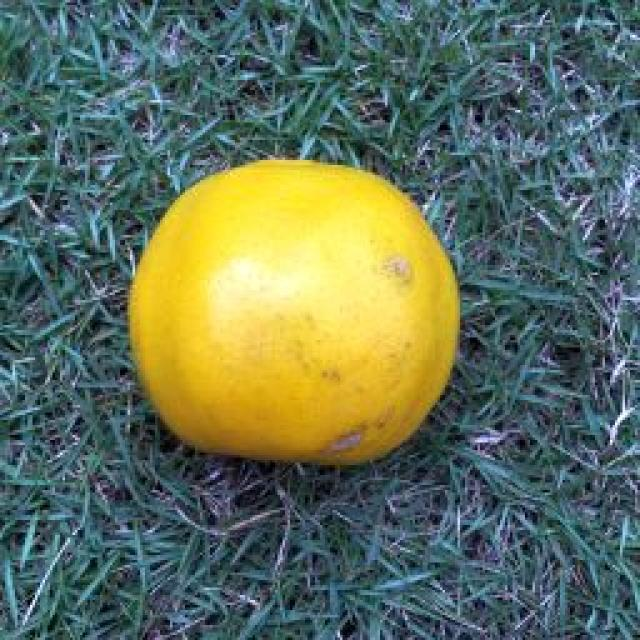Good_Orange: (128, 160, 462, 468)
